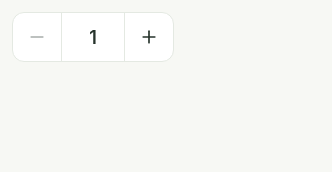
it: Stepper › increments, decrements and respects bounds
Expected: the field named "Cases" holds "1", x1=61 y1=13 x2=125 y2=61
Click the button named "Increase quantity".
click(149, 37)  # box x1=125 y1=13 x2=173 y2=61
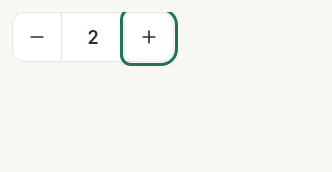
Now the field named "Cases" holds "2", box x1=61 y1=13 x2=125 y2=61
Click the button named "Decrease quantity".
click(37, 37)  # box x1=13 y1=13 x2=61 y2=61
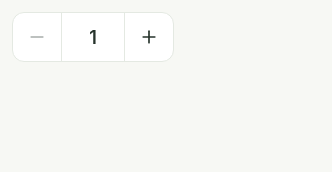
Replace the text in the field named "Cases" with "99" at (93, 37), box x1=61 y1=13 x2=125 y2=61
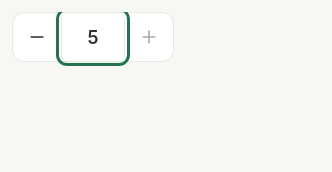
Now the field named "Cases" holds "5", box x1=61 y1=13 x2=125 y2=61
